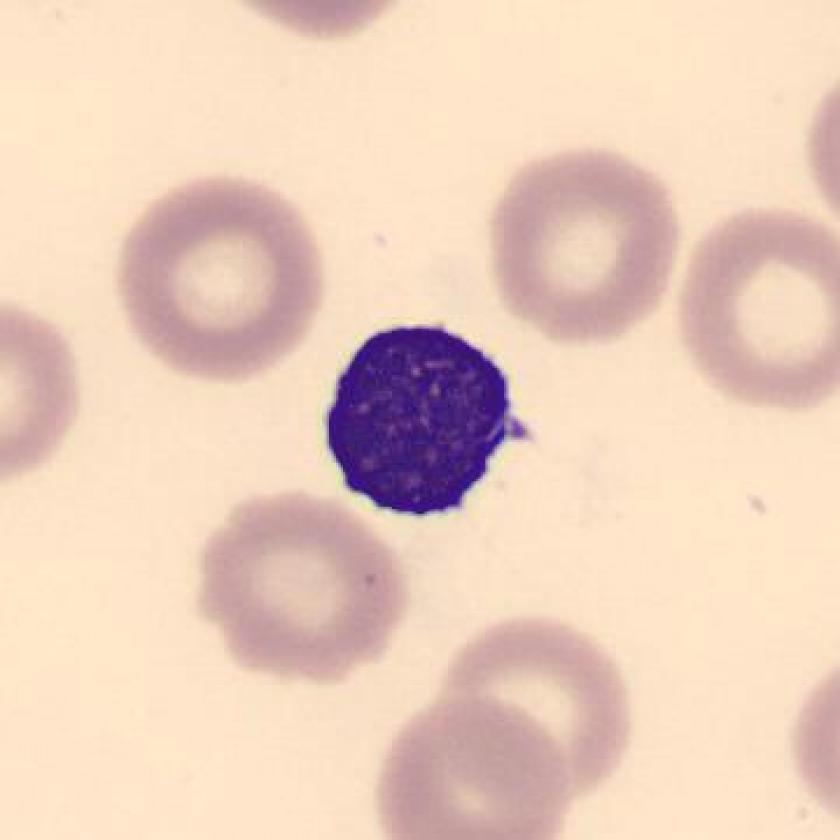lymphocyte: (302, 304, 552, 540)
